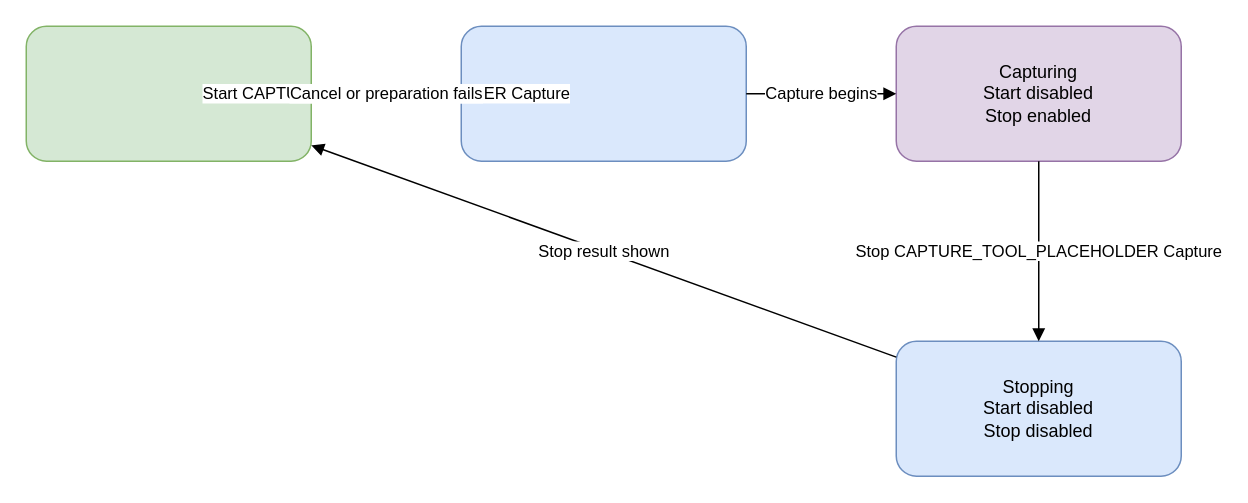
Image size: 1248x503. Some labels were removed from this diagram. Each missing label, with the centre of its shape:
"Preparing Start disabled Stop disabled" goes at pixel 603 93.
"Ready to start Start enabled Stop disabled" goes at pixel 168 93.
